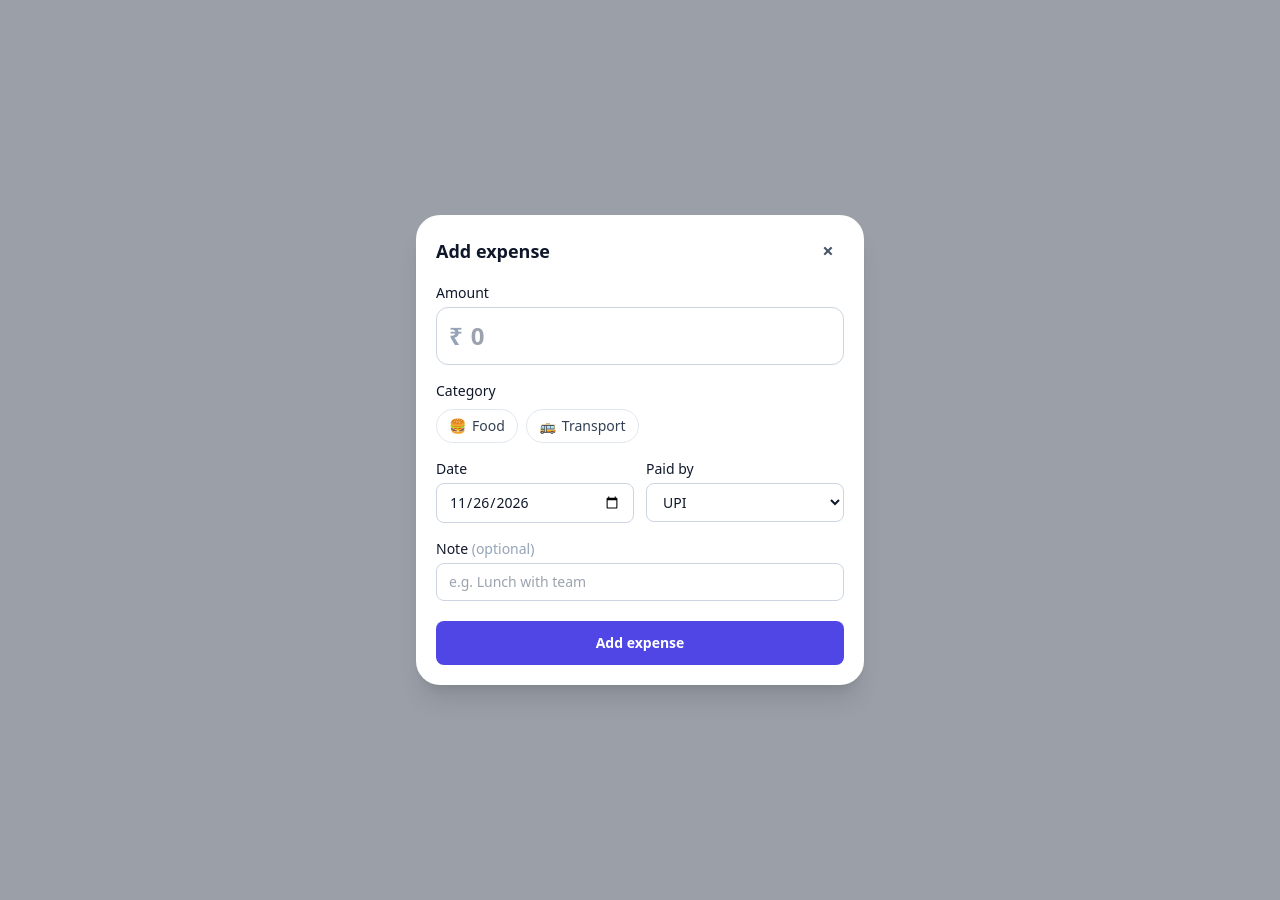
Test case: add mode › shows the server's error and stays open
The image size is (1280, 900).
Type "10" into the number field with placeholder "0" at (647, 336), box [463,308,831,364]
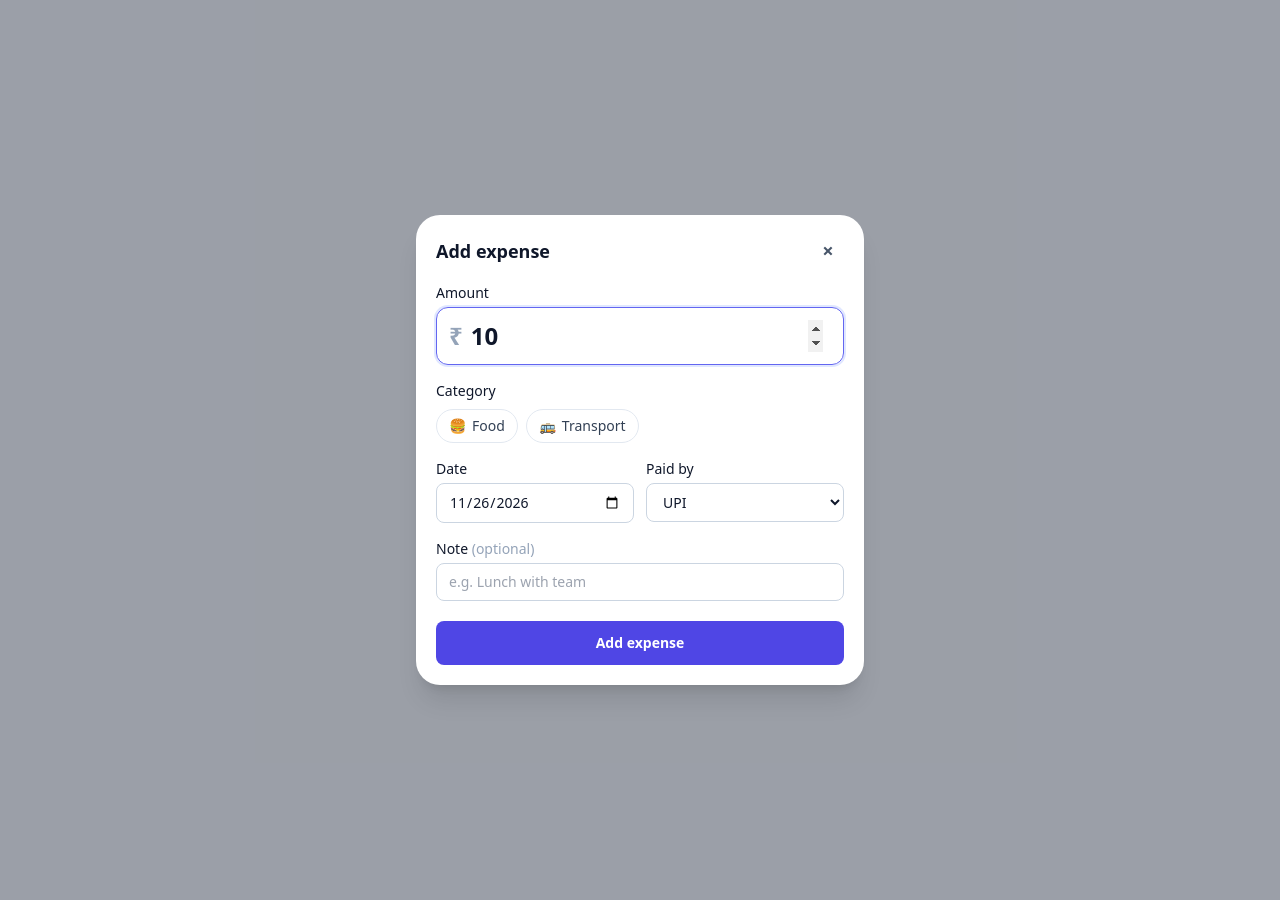
Click the button "🍔 Food" at (477, 426), box [436,409,518,443]
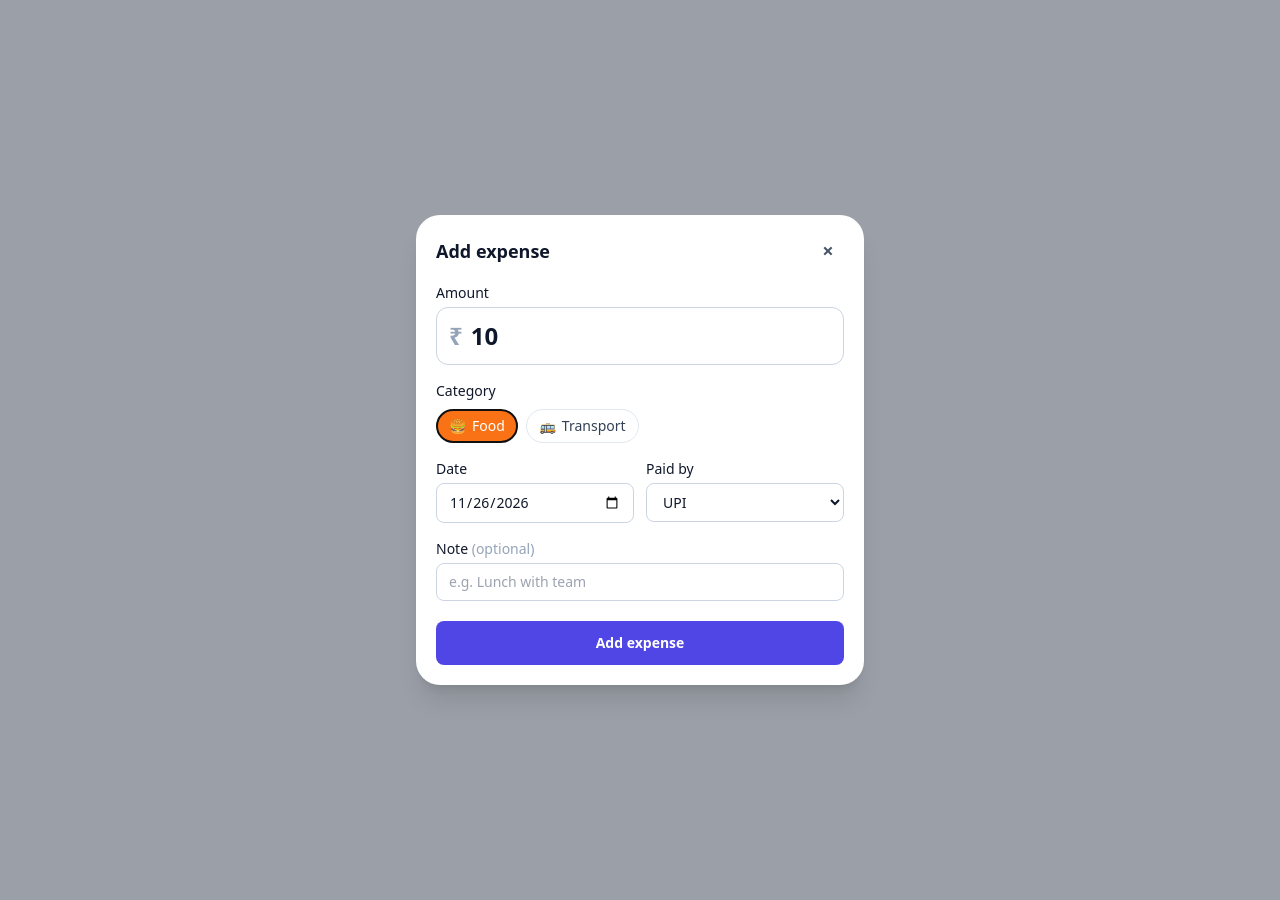
Click the button "Add expense" at (640, 643), box [436,621,844,665]
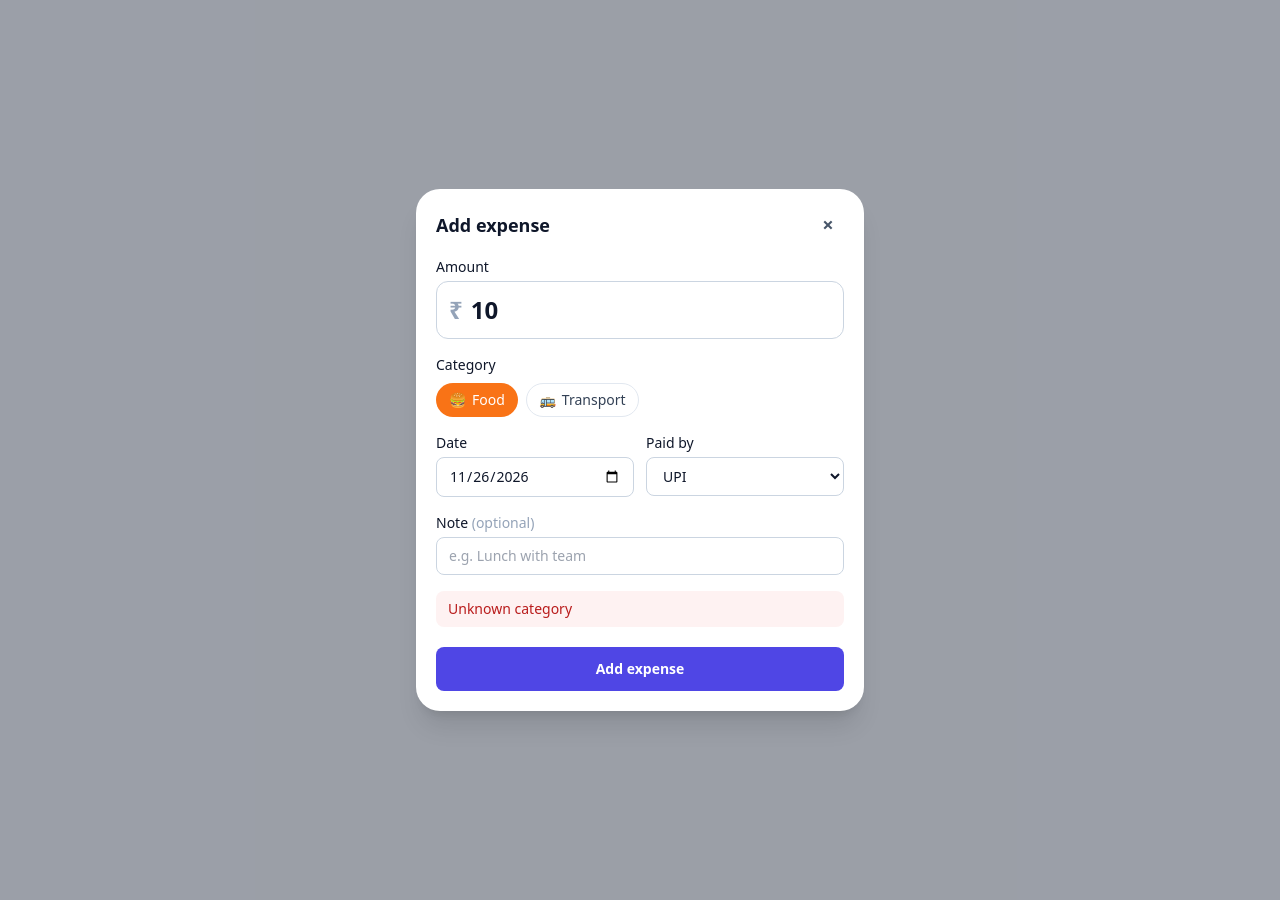
Check: the button "Add expense" is enabled, box [436,647,844,691]
Check: the text "Unknown category" is shown, box [436,591,844,627]
